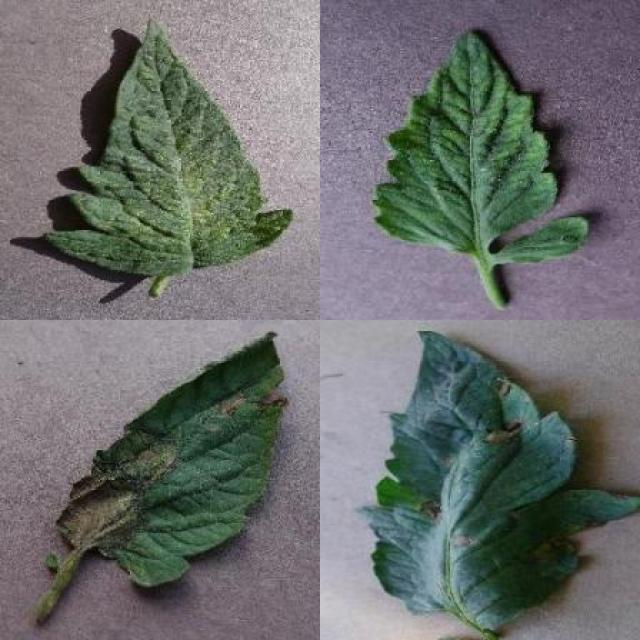Early Blight: (360, 327, 640, 640)
Late Blight: (54, 332, 286, 588)
Mosaic Virus: (371, 27, 589, 263)
Spider Mites: (43, 14, 296, 277)
